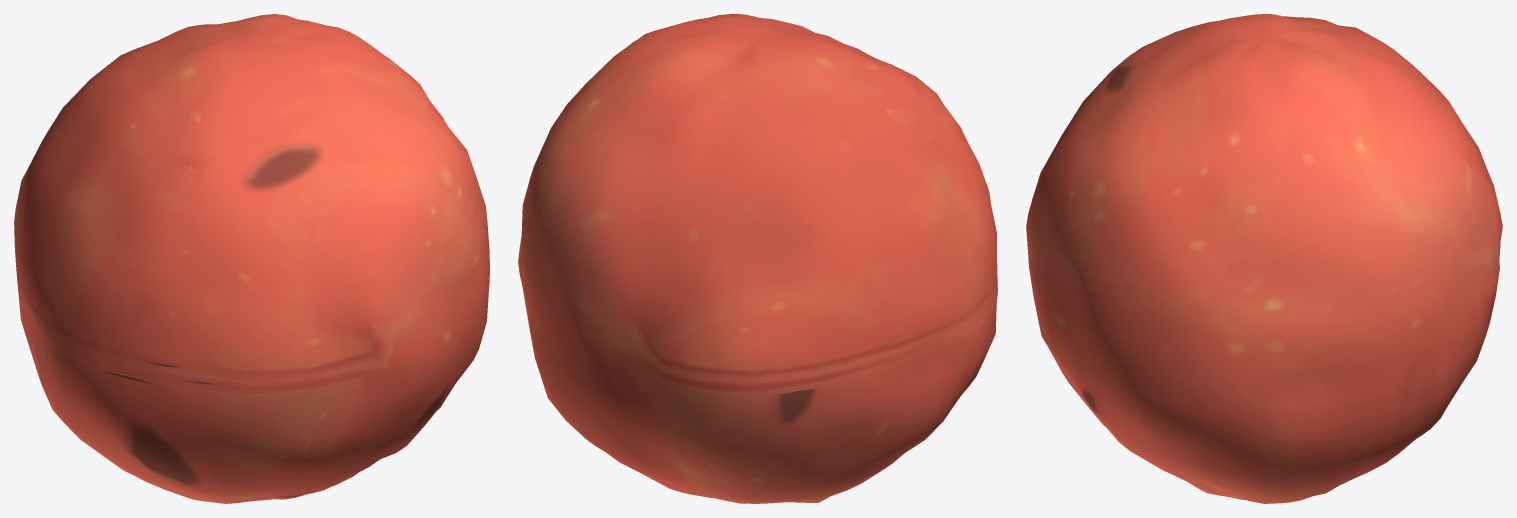
Rendered from planet_03_c.glb.
The picture shows the model from 3 angles, left to right: view 1: azimuth 30°, elevation 25°; view 2: azimuth 150°, elevation 25°; view 3: azimuth 270°, elevation 25°; orthographic projection.
Visible parts, largest first — view 1: Body; view 2: Body; view 3: Body.
Boxes of the visible parts, x1,y1,x2,y2 form: Body: (14,14,489,503); Body: (518,14,997,503); Body: (1026,14,1502,503).
Size of the model in its own units: 1.88 by 1.93 by 1.89.
Materials: 1 (1 with a texture image).
